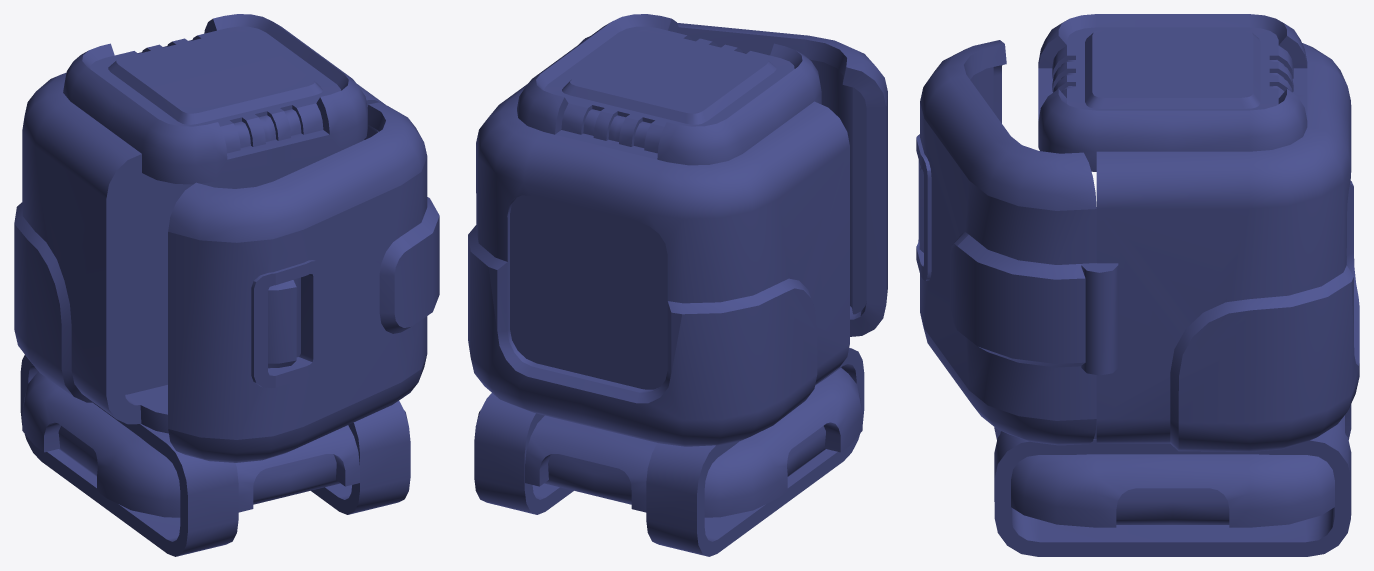
File: obj_interactive_freezer_pose0.fbx
3 views of the same model, side by side, from view 1: azimuth 30°, elevation 25°; view 2: azimuth 150°, elevation 25°; view 3: azimuth 270°, elevation 25° (orthographic). The views are drawn at different scales.
Visible parts, largest first — view 1: part5_lp.002, part0_lp.001; view 2: part5_lp.002, part0_lp.001; view 3: part5_lp.002, part0_lp.001.
Part boxes in pixels (left/top/right/bottom): part5_lp.002: left=14, top=14, right=410, bottom=556; part0_lp.001: left=168, top=102, right=439, bottom=462; part5_lp.002: left=468, top=14, right=864, bottom=556; part0_lp.001: left=579, top=23, right=887, bottom=336; part5_lp.002: left=994, top=14, right=1359, bottom=556; part0_lp.001: left=916, top=40, right=1096, bottom=445.
Bounding box in the file's own units: 3.32 × 4.13 × 3.8.
